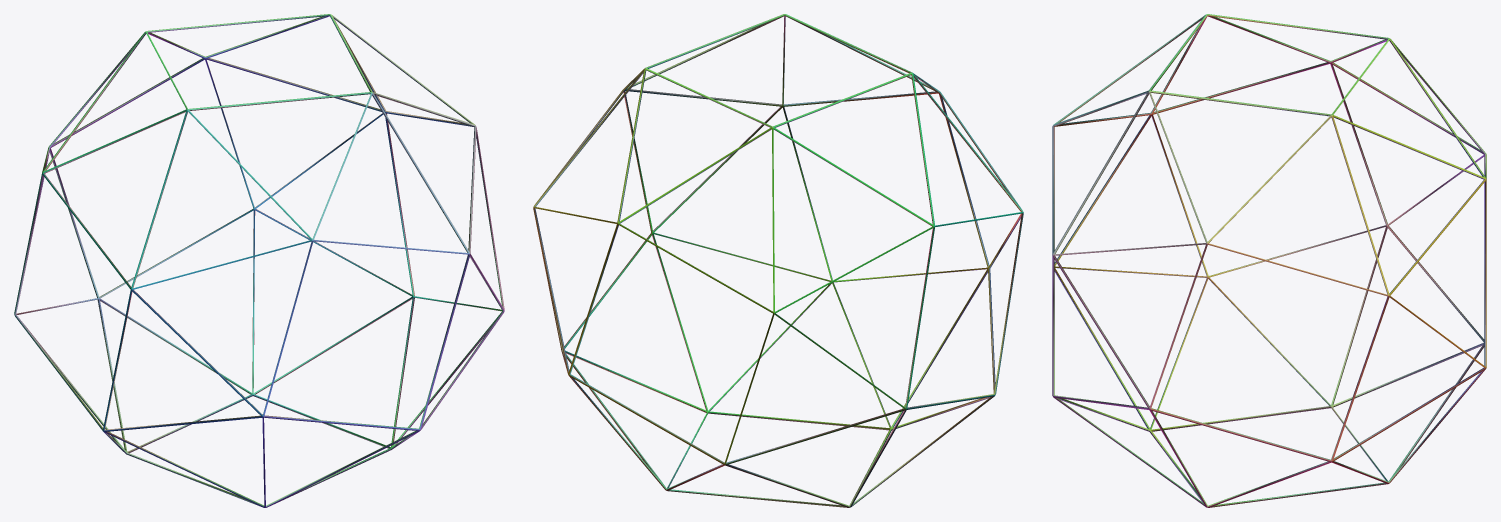
File: zeometry-wireframes-wire-snub-cube_v2.glb
The picture shows the model from 3 angles, left to right: view 1: azimuth 30°, elevation 25°; view 2: azimuth 150°, elevation 25°; view 3: azimuth 270°, elevation 25°; orthographic projection.
Visible parts, largest first — view 1: Wire Snub Cube_v2; view 2: Wire Snub Cube_v2; view 3: Wire Snub Cube_v2.
Part boxes in pixels (<box>): Wire Snub Cube_v2: <box>14,14,504,507</box>; Wire Snub Cube_v2: <box>533,14,1023,507</box>; Wire Snub Cube_v2: <box>1052,14,1486,507</box>.
Bounding box in the file's own units: 0.5 × 0.5 × 0.5.
